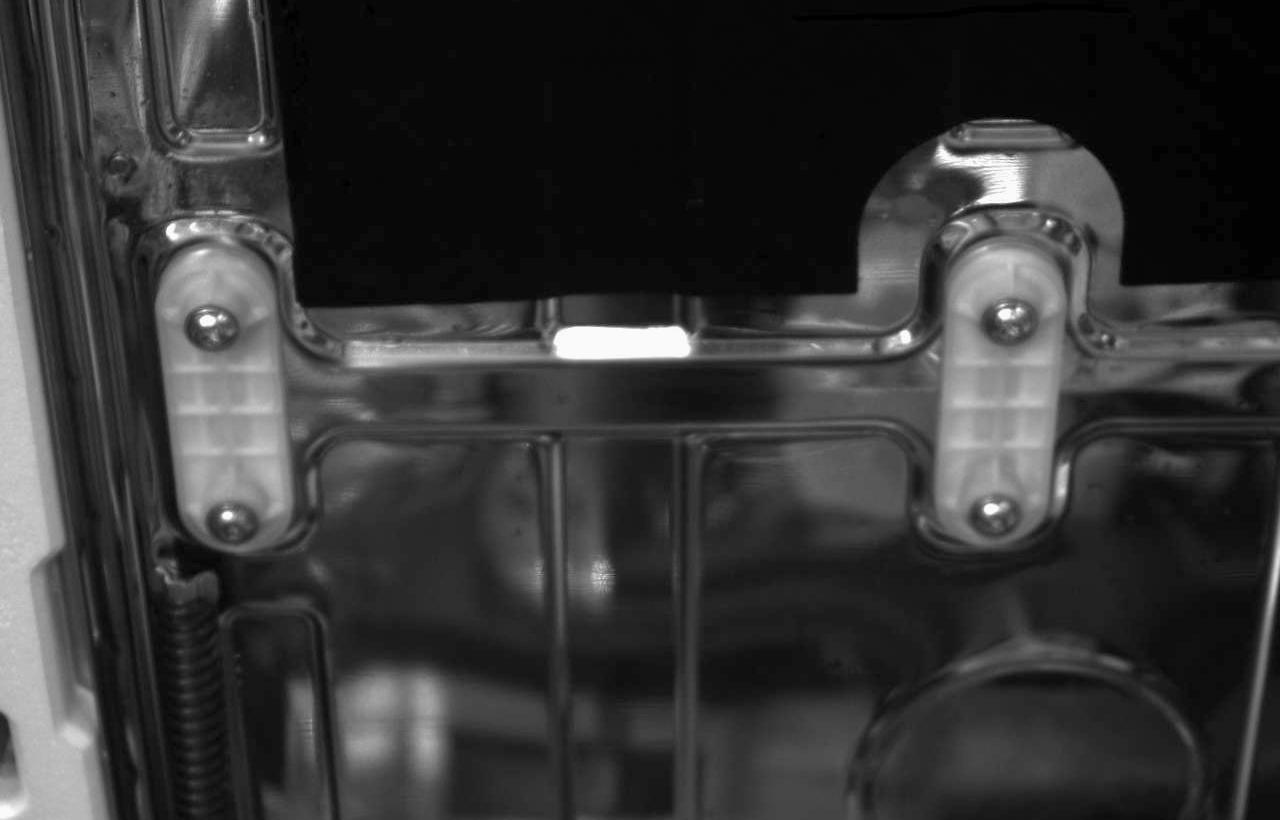vida-ok: (164, 289, 251, 367), (969, 281, 1057, 353), (197, 497, 277, 562), (968, 493, 1044, 552)
